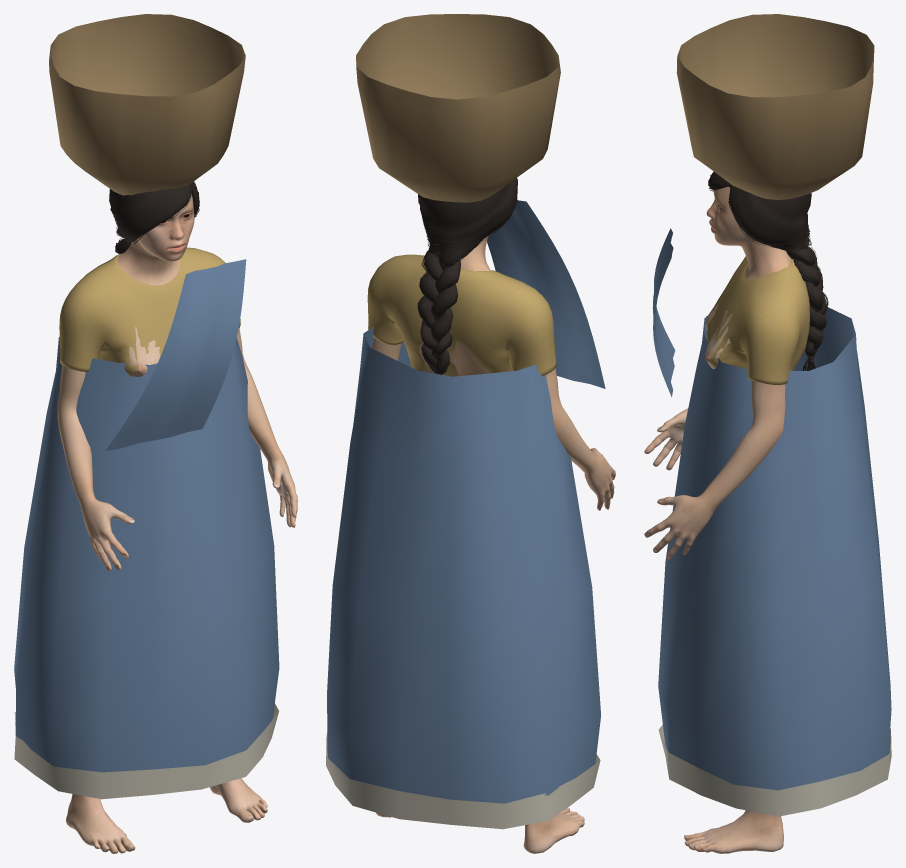
File: village_fruit_seller.glb
The picture shows the model from 3 angles, left to right: view 1: azimuth 30°, elevation 25°; view 2: azimuth 150°, elevation 25°; view 3: azimuth 270°, elevation 25°; orthographic projection. The views are drawn at different scales.
Parts seen in each view (by area): view 1: Wrapped sari lower drape_full_body_static, Fruit seller head basket_full_body_static, village_fruit_seller_MakeHuman_body_full_body_static, Woven sari pallu over blouse_full_body_static, Fitted cotton upper base_full_body_static, Sari lower border_full_body_static, Farmer_hair_full_body_static; view 2: Wrapped sari lower drape_full_body_static, Fruit seller head basket_full_body_static, Fitted cotton upper base_full_body_static, Farmer_hair_full_body_static, Woven sari pallu over blouse_full_body_static, Sari lower border_full_body_static, village_fruit_seller_MakeHuman_body_full_body_static; view 3: Wrapped sari lower drape_full_body_static, Fruit seller head basket_full_body_static, village_fruit_seller_MakeHuman_body_full_body_static, Fitted cotton upper base_full_body_static, Farmer_hair_full_body_static, Sari lower border_full_body_static, Woven sari pallu over blouse_full_body_static.
Part boxes in pixels (x1,y1,x2,y2): Wrapped sari lower drape_full_body_static: [14, 337, 279, 772]; Fruit seller head basket_full_body_static: [49, 14, 245, 195]; village_fruit_seller_MakeHuman_body_full_body_static: [57, 193, 297, 853]; Woven sari pallu over blouse_full_body_static: [105, 259, 246, 450]; Fitted cotton upper base_full_body_static: [59, 247, 240, 376]; Sari lower border_full_body_static: [14, 703, 278, 799]; Farmer_hair_full_body_static: [109, 181, 199, 254]; Wrapped sari lower drape_full_body_static: [327, 326, 600, 803]; Fruit seller head basket_full_body_static: [356, 14, 560, 202]; Fitted cotton upper base_full_body_static: [367, 254, 556, 376]; Farmer_hair_full_body_static: [417, 178, 517, 374]; Woven sari pallu over blouse_full_body_static: [487, 200, 605, 388]; Sari lower border_full_body_static: [326, 732, 600, 829]; village_fruit_seller_MakeHuman_body_full_body_static: [372, 235, 615, 853]; Wrapped sari lower drape_full_body_static: [658, 307, 891, 790]; Fruit seller head basket_full_body_static: [676, 14, 874, 199]; village_fruit_seller_MakeHuman_body_full_body_static: [644, 186, 791, 853]; Fitted cotton upper base_full_body_static: [705, 256, 809, 384]; Farmer_hair_full_body_static: [708, 172, 828, 370]; Sari lower border_full_body_static: [658, 724, 891, 816]; Woven sari pallu over blouse_full_body_static: [652, 228, 675, 397].
Size of the model in its own units: 0.5486 by 1.65 by 0.4868.
7 materials, 2 textured.
